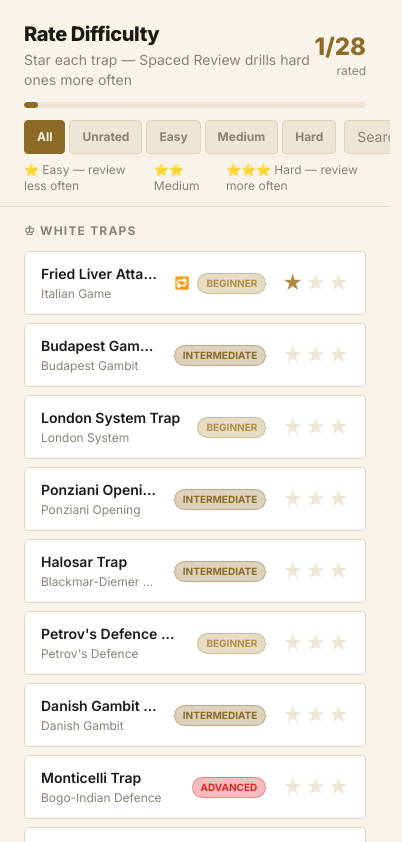
Test case: RateDifficultyPage › the Unrated filter hides traps that already have a rating
Click the button "Unrated": (106, 137) [70, 120, 142, 154]
(page scrolled)
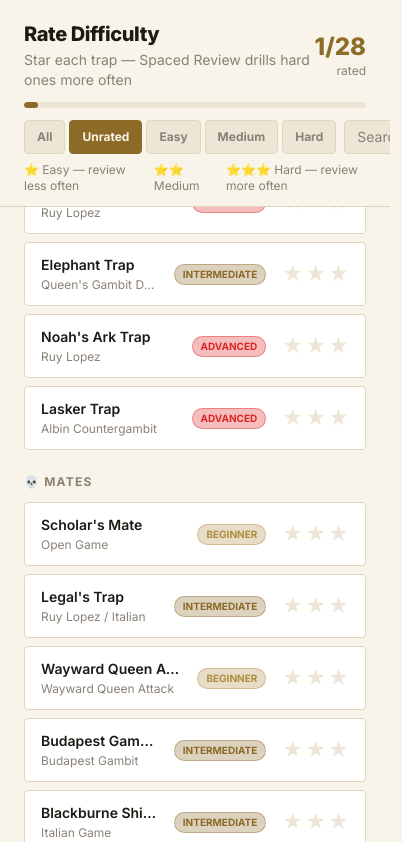
expect the text "Fried Liver Attack" is gone: met
expect the text "Scholar's Mate" is shown: met, box [41, 516, 142, 533]
